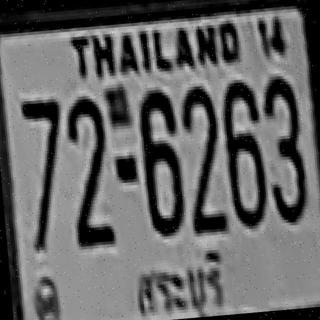N02: (63, 95, 113, 241), (179, 82, 226, 231)
N03: (259, 72, 308, 221)
N06: (218, 77, 266, 226), (136, 86, 184, 234)
N07: (19, 96, 70, 248)
